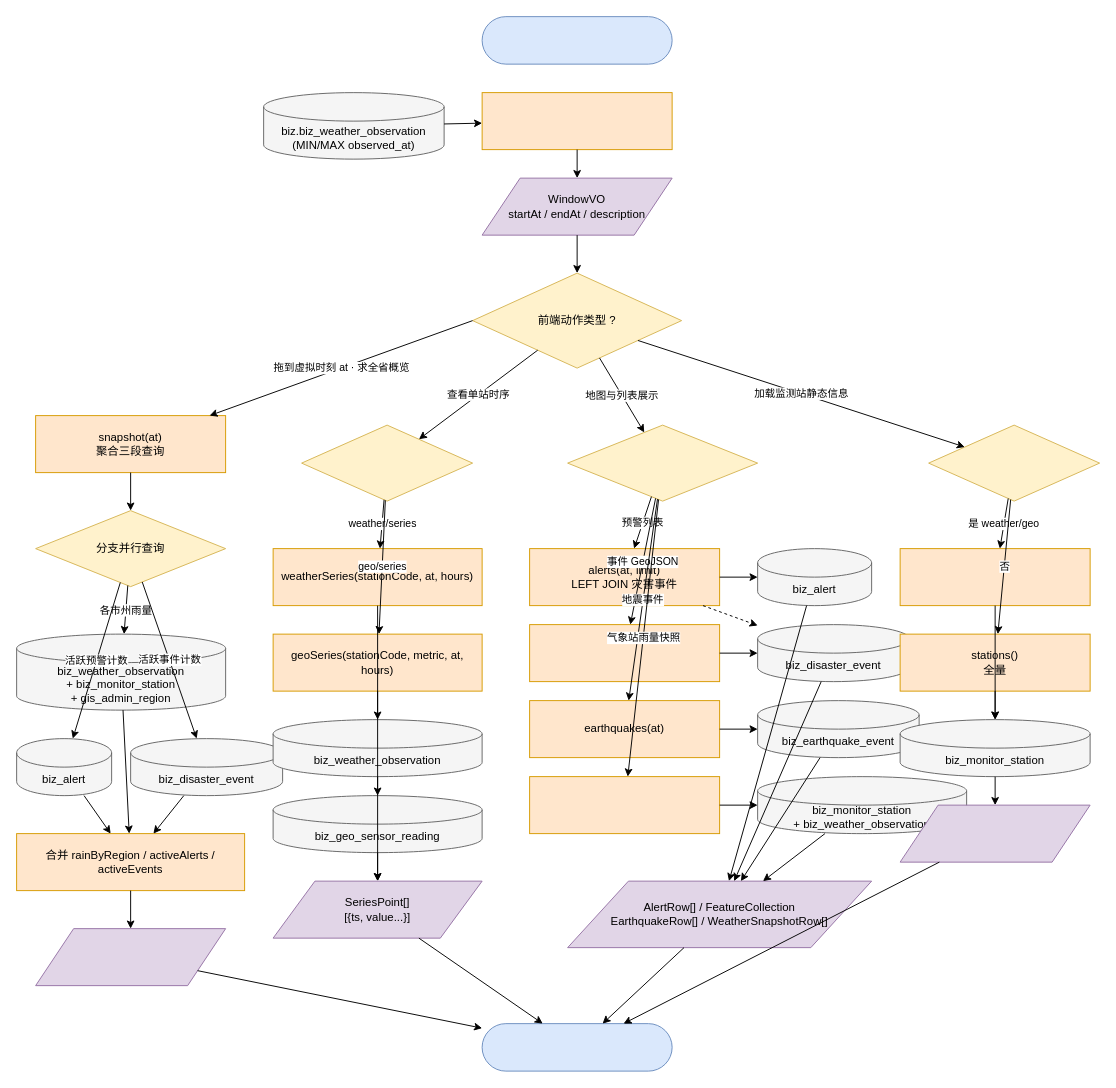
The diagram is 1116 pixels wide and 1088 high, and some of its shapes have lost their labels. Here are the shapes that lost their labels. From the top down, the centre of each, then its label:
the point at 576,40: 开始 · 前端时间轴拖动
the point at 576,121: window() 读取窗口元信息
the point at 387,462: 时序类型 ?
the point at 662,462: 展示对象 ?
the point at 1014,462: 按 type 过滤 ?
the point at 994,577: stations(type) 按 type 过滤
the point at 624,653: eventsGeoJson(at) 行集 → FeatureCollection
the point at 624,805: weatherSnapshot(at) 子查询取每站最新观测
the point at 994,833: StationRow[]
the point at 130,957: SnapshotVO 全省概览 Map
the point at 576,1047: 结束 · 前端渲染
